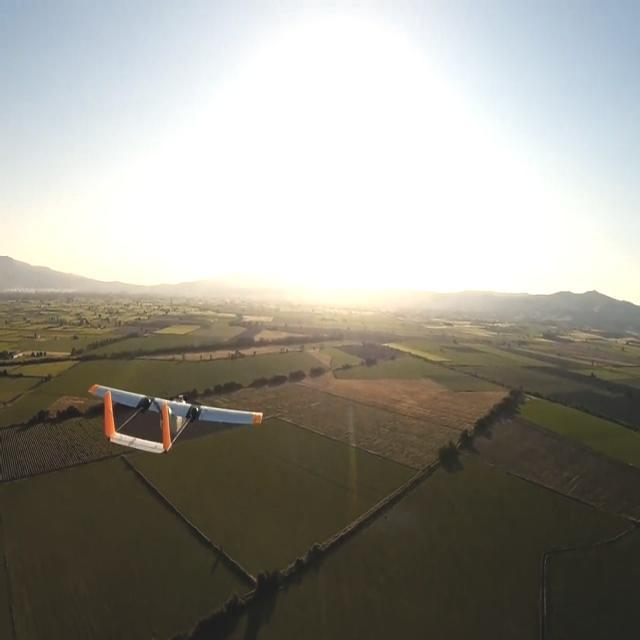iha: (83, 411, 264, 426)
